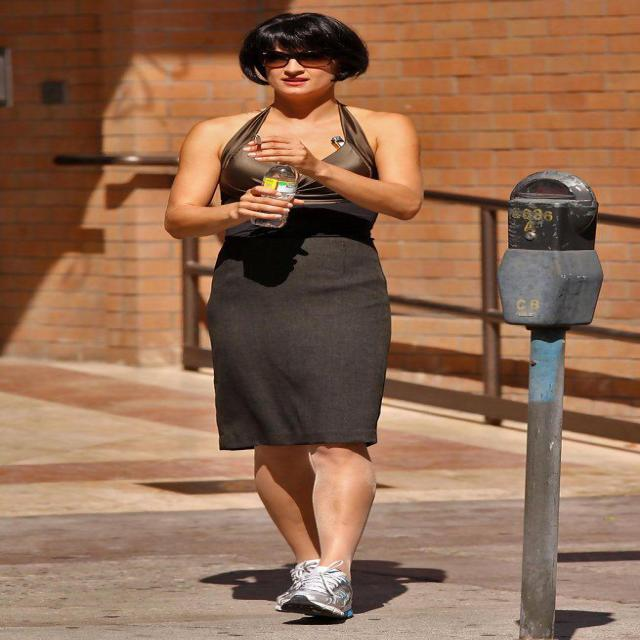cigarette: (247, 123, 274, 156)
